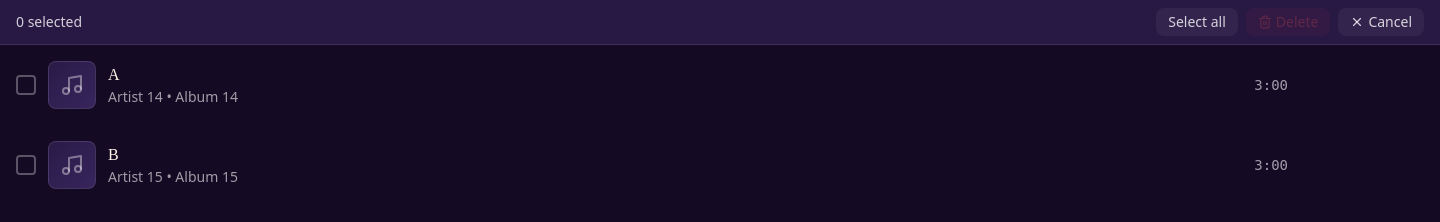
Test: SongList › clicks toggle individual selection in selection mode
Step 1. Click the text "A" → click(114, 74), box [108,66,120,83]
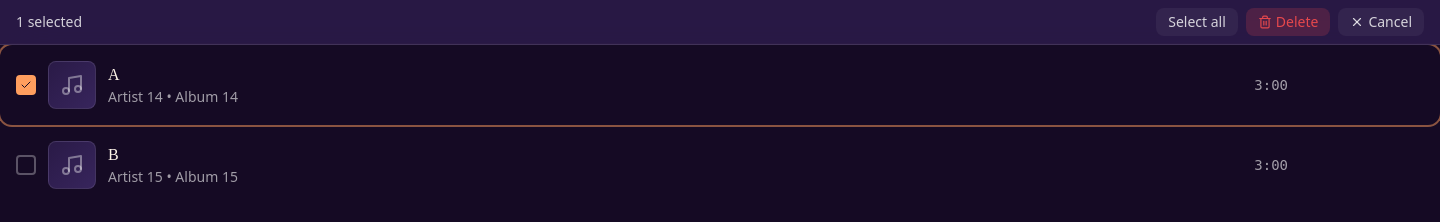
Check: the text "1 selected" is shown, box [16,12,82,32]
Step 2. Click the text "B" → click(113, 154), box [108,146,119,163]
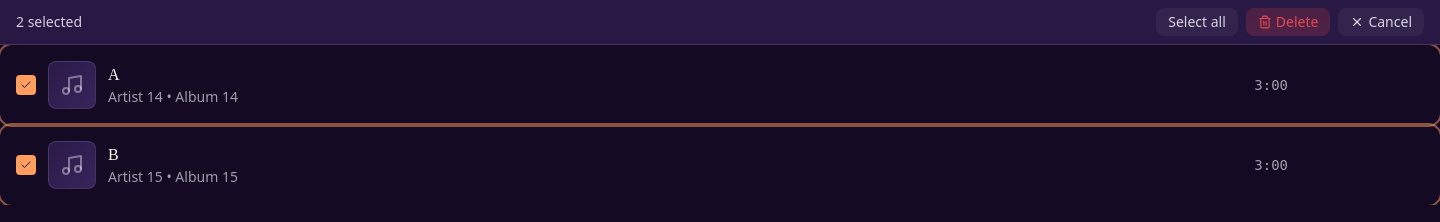
Check: the text "2 selected" is shown, box [16,12,82,32]
Step 3. Click the text "A" → click(114, 74), box [108,66,120,83]
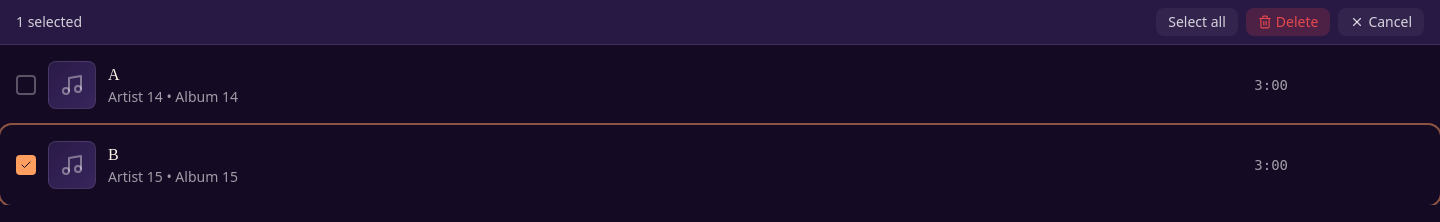
Check: the text "1 selected" is shown, box [16,12,82,32]
